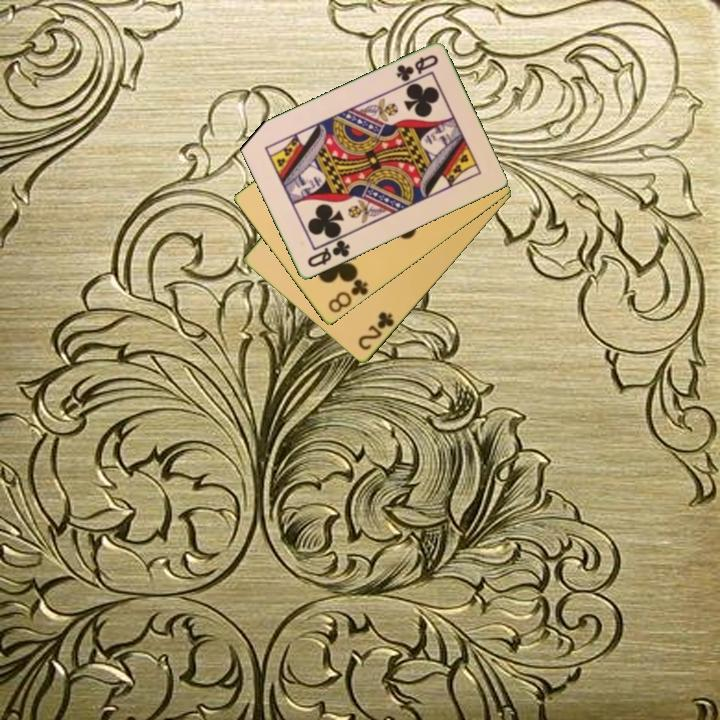2c: (354, 308, 397, 354)
8c: (324, 273, 371, 316)
Qc: (304, 233, 353, 271), (392, 51, 441, 85)
